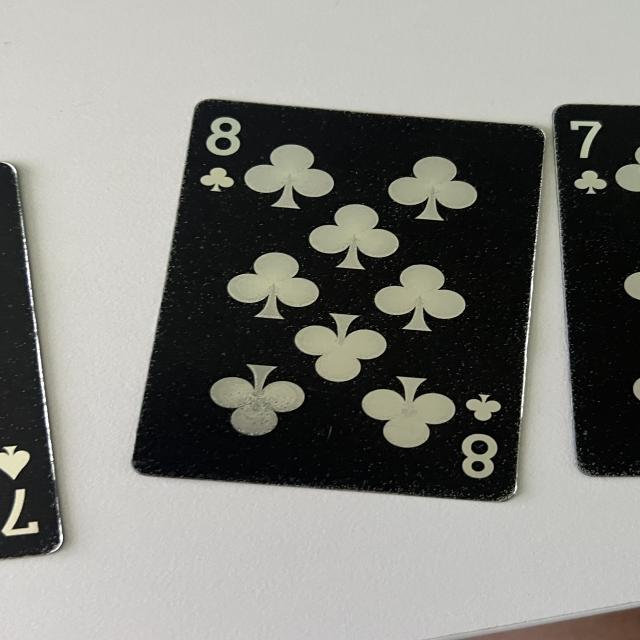7C: (566, 112, 614, 198)
7S: (0, 441, 40, 544)
8C: (460, 389, 507, 483), (196, 111, 245, 197)
